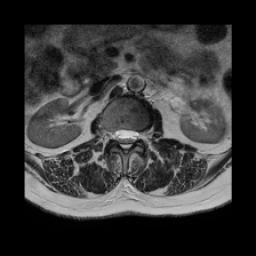CCS_normal: (121, 122, 128, 157)
LFS_normal: (137, 122, 145, 147)
LLS_normal: (128, 122, 138, 149)
RFS_normal: (106, 123, 115, 144)
RLS_normal: (115, 122, 121, 148)
